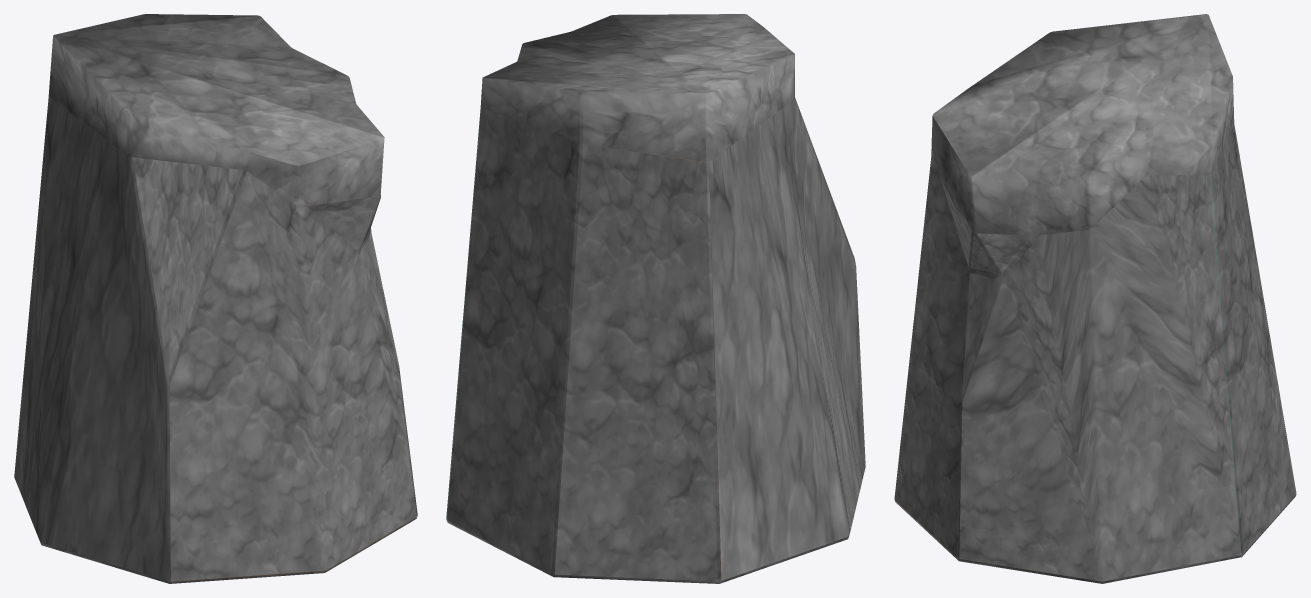
File: SmallLowPoly.fbx
3 renders of one model, left to right at view 1: azimuth 30°, elevation 25°; view 2: azimuth 150°, elevation 25°; view 3: azimuth 270°, elevation 25°, orthographic. The views are drawn at different scales.
Visible parts, largest first — view 1: SmallOreLowPoly; view 2: SmallOreLowPoly; view 3: SmallOreLowPoly.
Boxes of the visible parts, x1,y1,x2,y2 form: SmallOreLowPoly: (14,14,417,583); SmallOreLowPoly: (446,14,865,583); SmallOreLowPoly: (894,14,1296,583).
Size of the model in its own units: 115 by 137 by 115.
